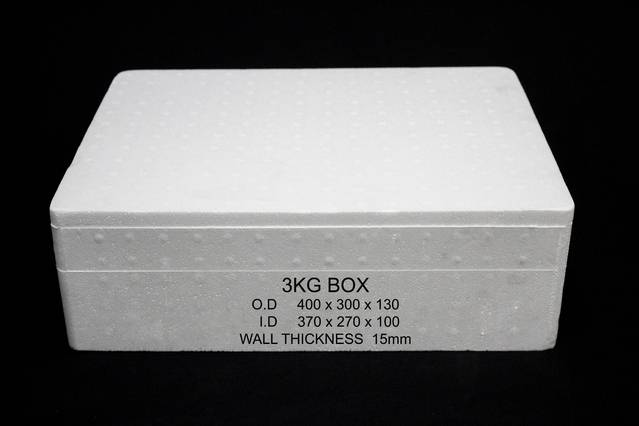Boxes: (50, 67, 574, 351)
